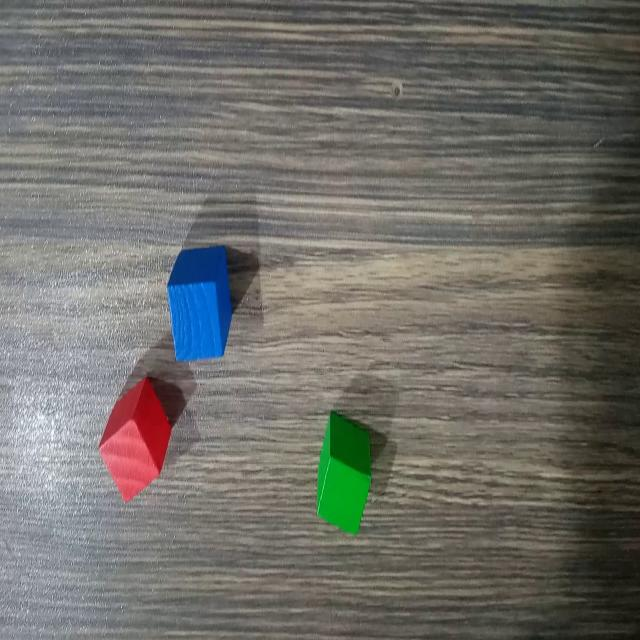cube: (96, 373, 173, 505), (162, 244, 234, 363), (314, 406, 374, 538)
